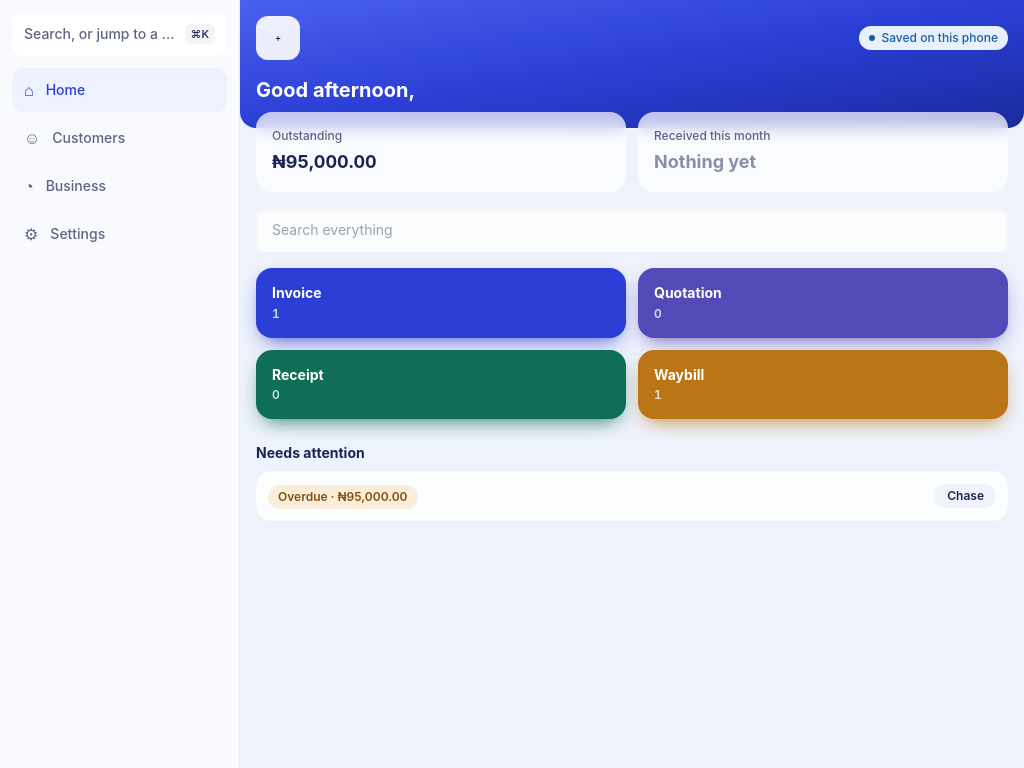
Test case: Home search replaces the body with results (§G, §D.3) › sends an item to the saved list it lives in
The width and height of the screenshot is (1024, 768).
Step 1. Type "cement" into the search field labelled "Search everything" → (632, 230), box [256, 208, 1008, 252]
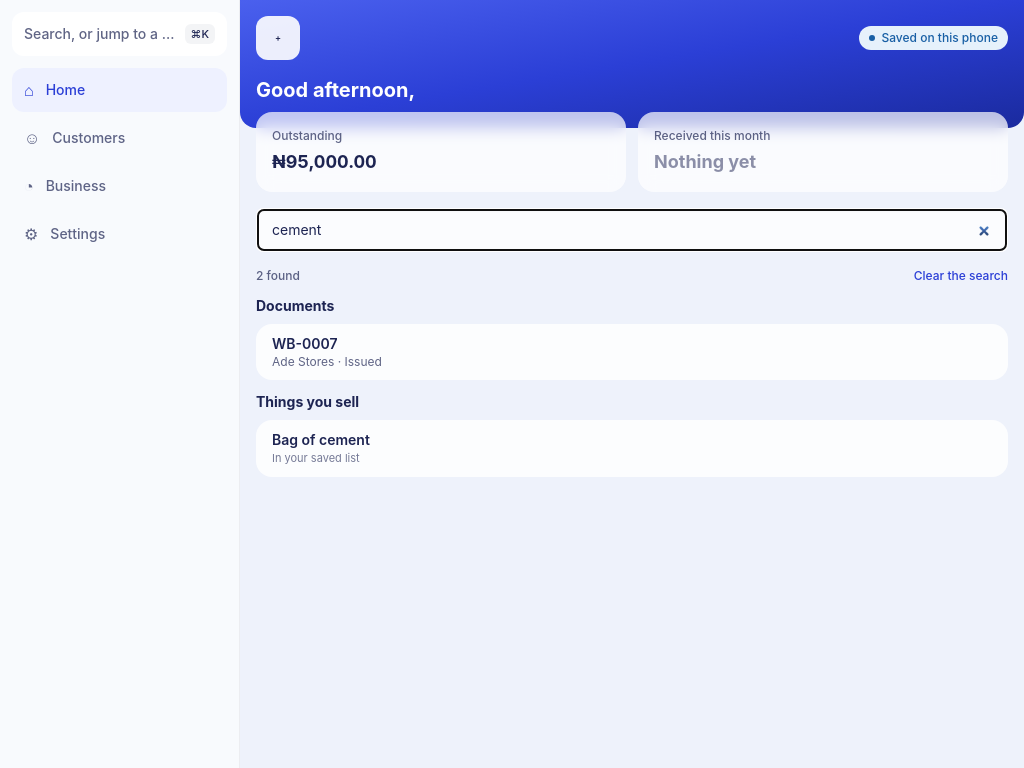
Step 2. Click the text "Bag of cement" → (321, 440), box [272, 431, 370, 448]
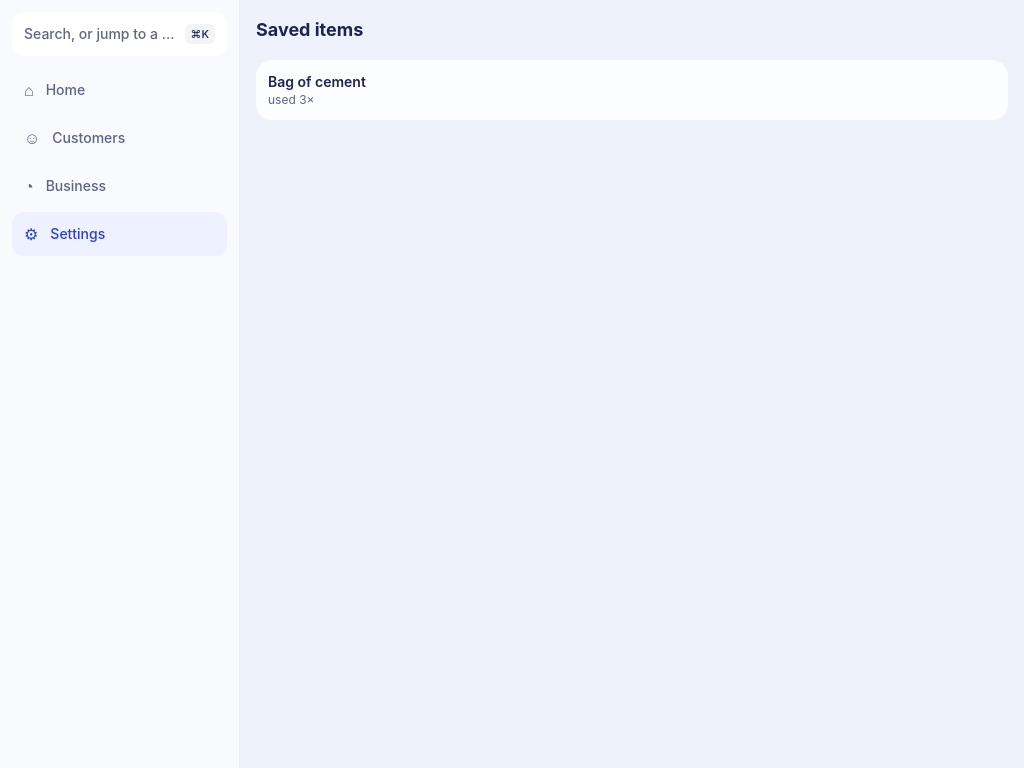
Expected: the heading "Saved items" is shown, [256, 19, 363, 40]
